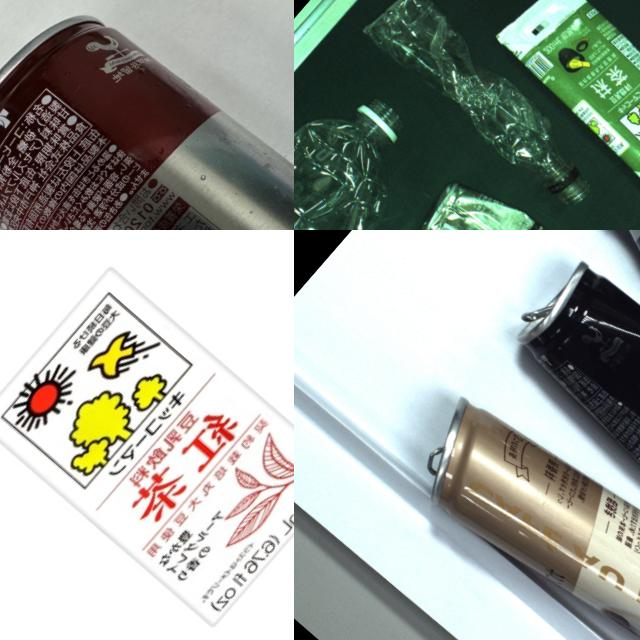Aluminium Foil: (0, 248, 294, 635), (490, 0, 640, 216)
Can: (388, 350, 640, 640), (0, 0, 294, 230), (497, 250, 640, 590), (531, 230, 640, 496), (405, 163, 588, 230)
Transparent Plastic Bottle: (357, 0, 610, 209), (294, 64, 456, 230)
